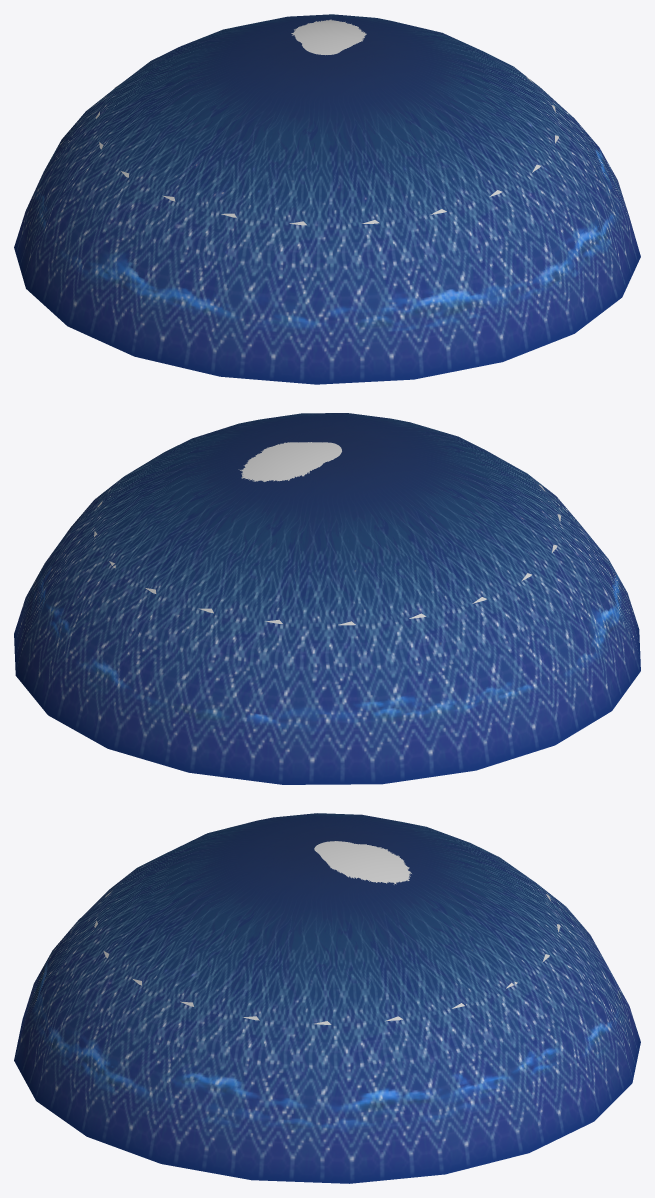
The model's file is sb_obj_sky_Barrier_Night.fbx.
The picture shows the model from 3 angles, top to bottom: view 1: azimuth 30°, elevation 25°; view 2: azimuth 150°, elevation 25°; view 3: azimuth 270°, elevation 25°; orthographic projection.
Parts seen in each view (by area): view 1: sky, sky.001; view 2: sky, sky.001; view 3: sky, sky.001.
Boxes of the visible parts, box(x1,y1,x2,y2) form: sky: box(14, 14, 640, 384); sky.001: box(96, 19, 558, 225); sky: box(14, 413, 640, 784); sky.001: box(94, 442, 560, 625); sky: box(14, 813, 640, 1183); sky.001: box(94, 841, 560, 1024).
Bounding box in the file's own units: 985 × 356 × 985.
